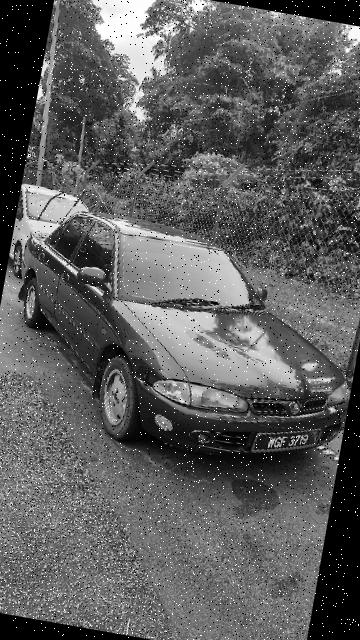License_Plate: (249, 416, 327, 469)
car: (1, 198, 360, 479)
